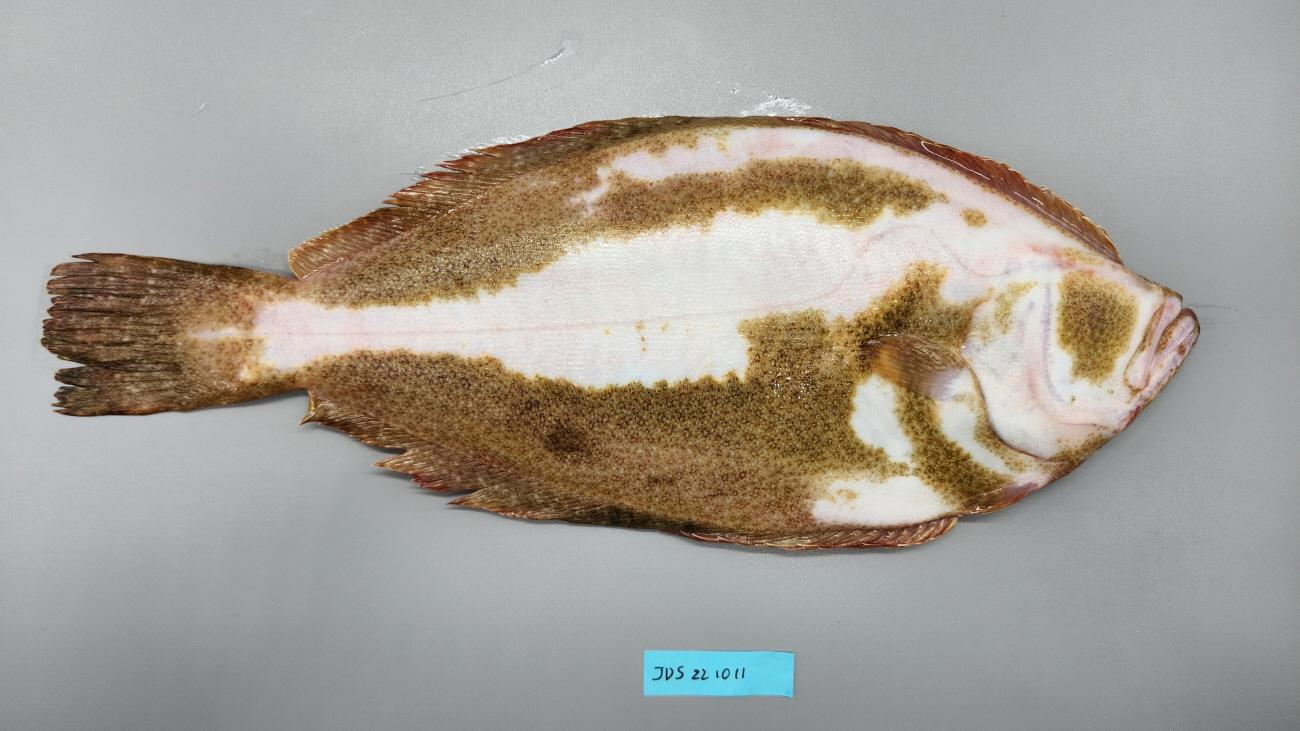VIOUY: (33, 117, 1196, 552)
